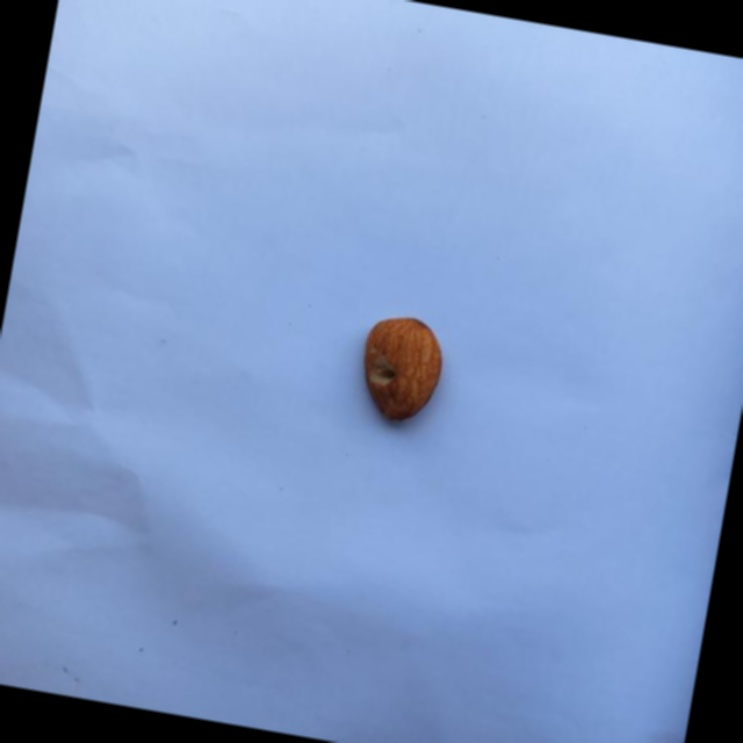grade3: (347, 306, 452, 433)
